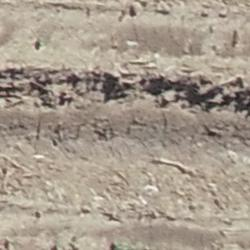cotton: (37, 38, 44, 44)
